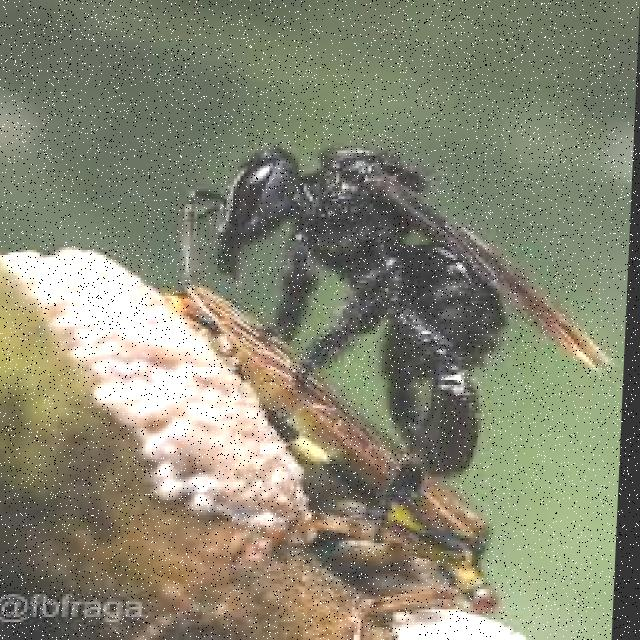Meliponula: (168, 129, 575, 490)
